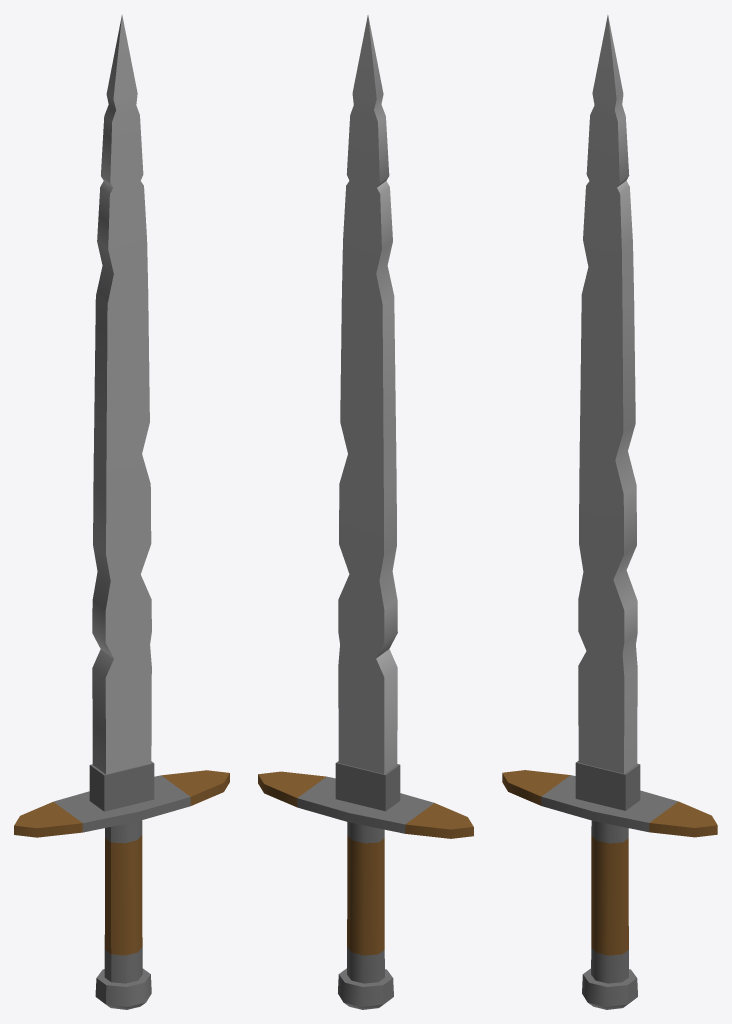
Rendered from Sowrd_9.fbx.
3 views of the same model, side by side, from view 1: azimuth 30°, elevation 25°; view 2: azimuth 150°, elevation 25°; view 3: azimuth 330°, elevation 25° (orthographic).
Parts seen in each view (by area): view 1: Sowrd_9; view 2: Sowrd_9; view 3: Sowrd_9.
Boxes of the visible parts, box(x1,y1,x2,y2) form: Sowrd_9: box(14, 14, 229, 1009); Sowrd_9: box(258, 15, 473, 1009); Sowrd_9: box(502, 15, 717, 1009).
Size of the model in its own units: 0.1009 by 0.4415 by 0.0276.
